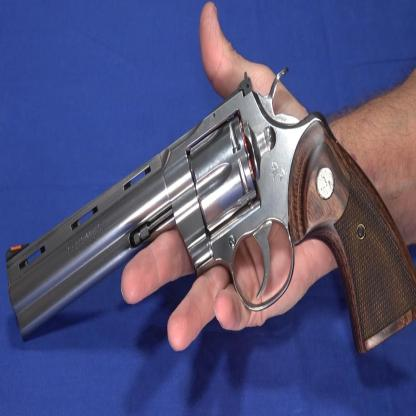handgun: (7, 57, 416, 364)
